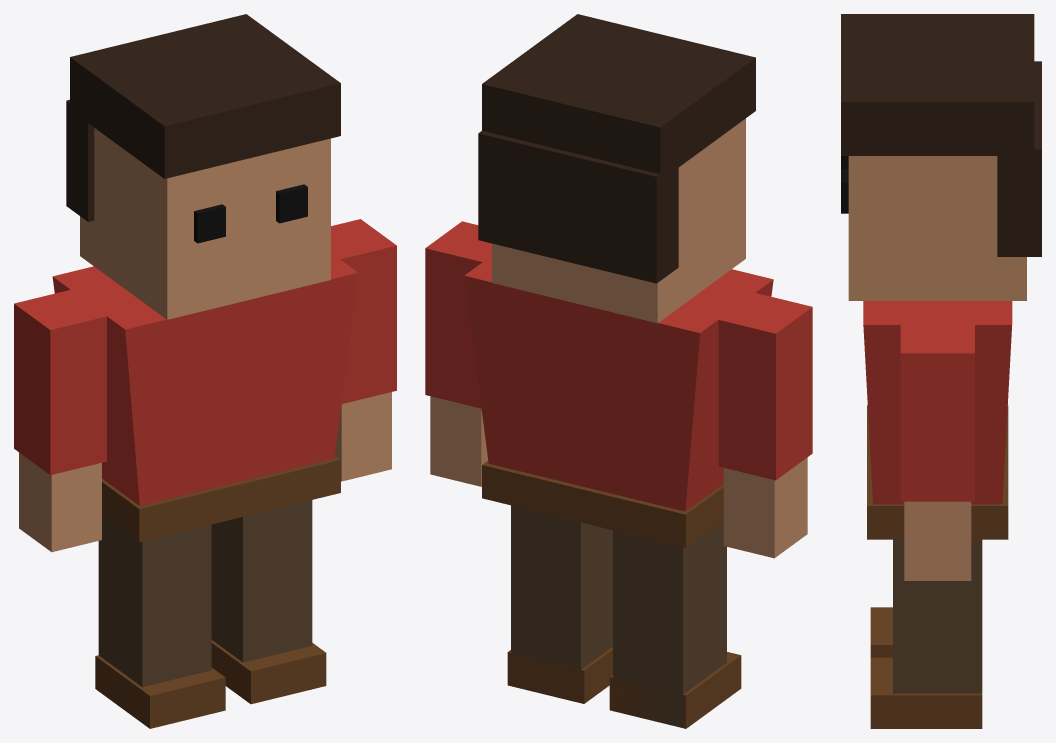
File: Character.obj
3 views of the same model, side by side, from view 1: azimuth 30°, elevation 25°; view 2: azimuth 150°, elevation 25°; view 3: azimuth 270°, elevation 25° (orthographic). The views are drawn at different scales.
Parts seen in each view (by area): view 1: Head, Torso, ArmL, LegL, LegR, ArmR; view 2: Head, Torso, ArmL, LegL, LegR, ArmR; view 3: Head, Torso, ArmR, LegR, LegL.
Boxes of the visible parts, bbox=[...] form: Head: bbox=[66, 14, 340, 319]; Torso: bbox=[52, 253, 358, 541]; ArmL: bbox=[14, 289, 106, 552]; LegL: bbox=[95, 515, 225, 728]; LegR: bbox=[211, 500, 326, 704]; ArmR: bbox=[331, 219, 396, 481]; Head: bbox=[478, 14, 755, 323]; Torso: bbox=[464, 255, 773, 547]; ArmL: bbox=[718, 293, 812, 558]; LegL: bbox=[609, 521, 741, 728]; LegR: bbox=[507, 505, 612, 703]; ArmR: bbox=[425, 221, 491, 486]; Head: bbox=[841, 14, 1041, 300]; Torso: bbox=[863, 301, 1012, 539]; ArmR: bbox=[900, 325, 974, 580]; LegR: bbox=[870, 539, 982, 728]; LegL: bbox=[870, 607, 892, 657].
Bounding box in the file's own units: 0.55 × 0.93 × 0.27.
